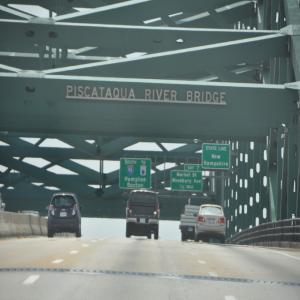Vehicle-registration-plate: (209, 219, 215, 225), (60, 214, 67, 218), (140, 220, 146, 224)
